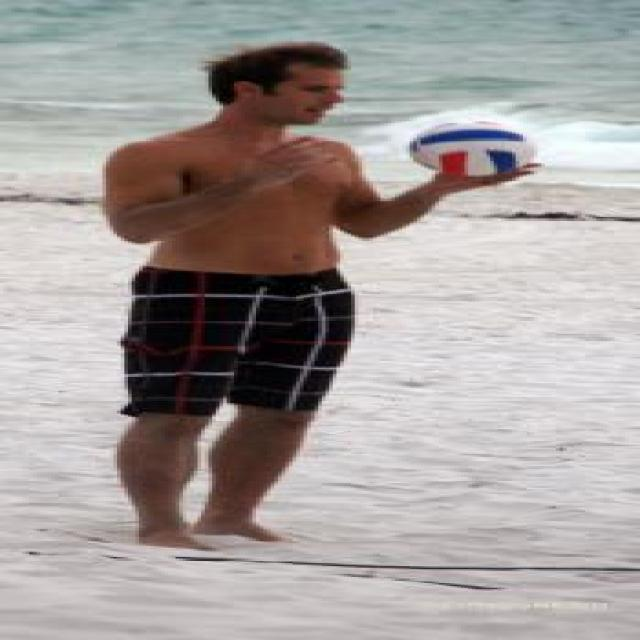volleyball: (408, 120, 536, 178)
